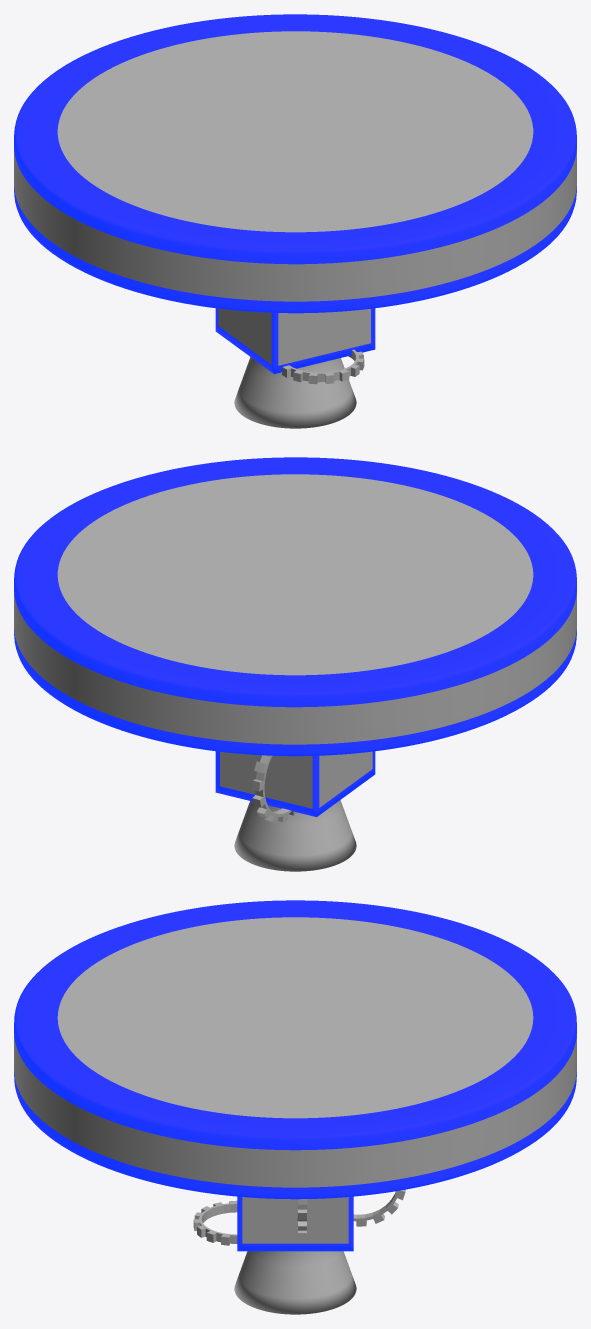
The model's file is PlatformCircle.fbx.
3 views of the same model, one above another, from view 1: azimuth 30°, elevation 25°; view 2: azimuth 150°, elevation 25°; view 3: azimuth 270°, elevation 25° (orthographic).
Visible parts, largest first — view 1: Цилиндр, shester3.001; view 2: Цилиндр, shester4.001; view 3: Цилиндр, shester3.001, shester4.001.
Part boxes in pixels (x1,y1,x2,y2): Цилиндр: (14, 14, 576, 428); shester3.001: (282, 349, 364, 384); Цилиндр: (14, 457, 576, 871); shester4.001: (252, 755, 296, 822); Цилиндр: (14, 900, 576, 1314); shester3.001: (193, 1200, 237, 1245); shester4.001: (353, 1189, 405, 1226).
Size of the model in its own units: 199 by 106 by 199.
